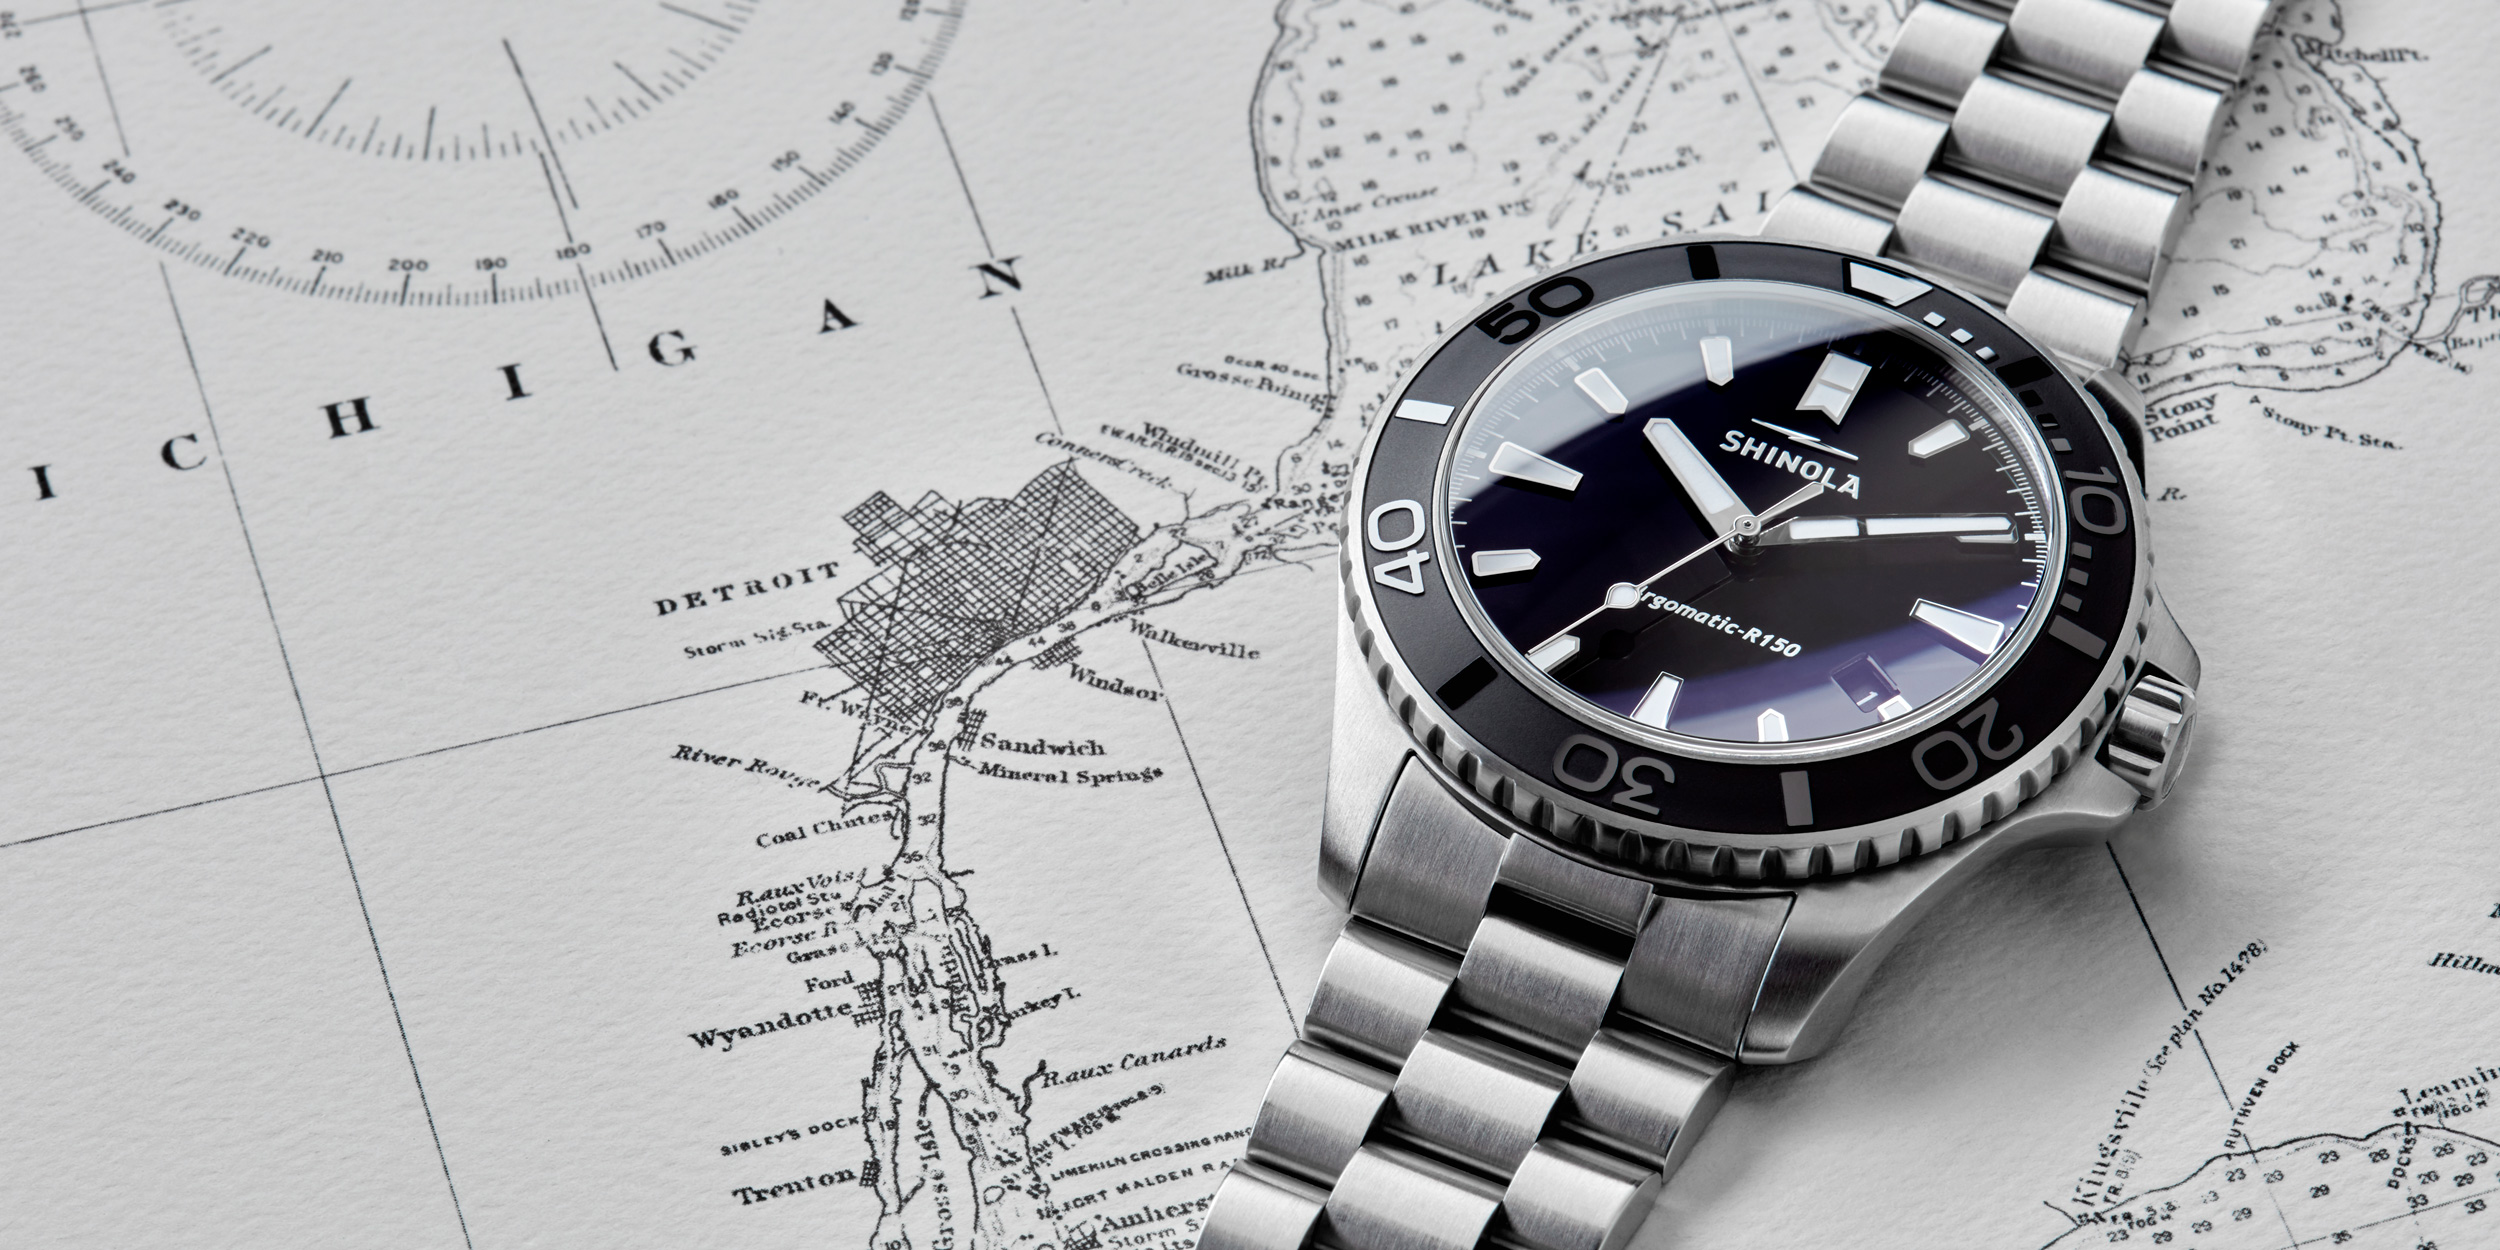clock: (1331, 238, 2172, 906)
